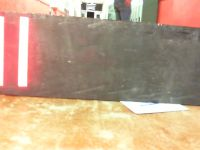switch: (17, 16, 29, 87), (1, 16, 5, 87)
